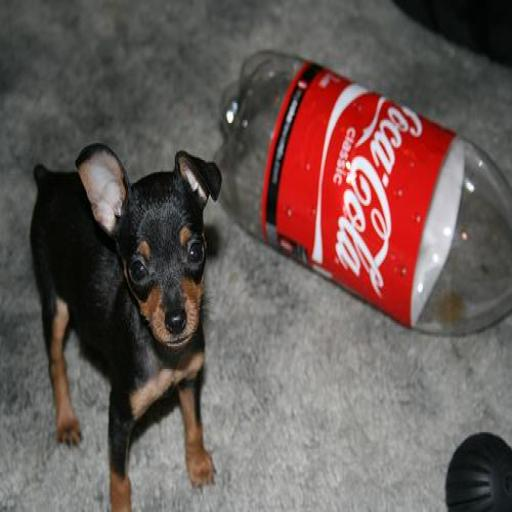dog_face: (80, 142, 222, 361)
